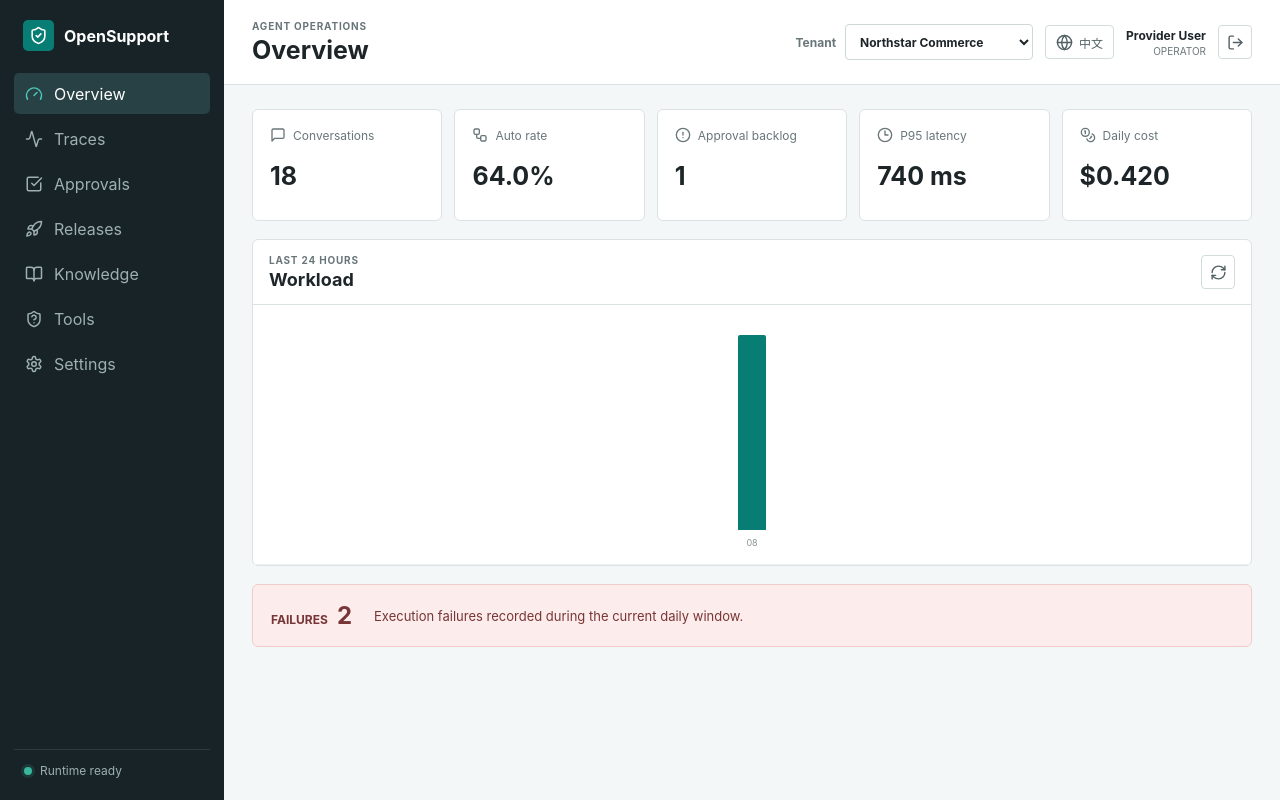
Scenario: operations dashboard › switches the interface language between English and Simplified Chinese
The image size is (1280, 800).
Expected: the text "18" is shown, [270,161,297,191]
Expected: the button "Overview" is shown, [14,73,210,114]
Click the button with aria-label "Language": (1080, 42) [1045,25,1114,59]
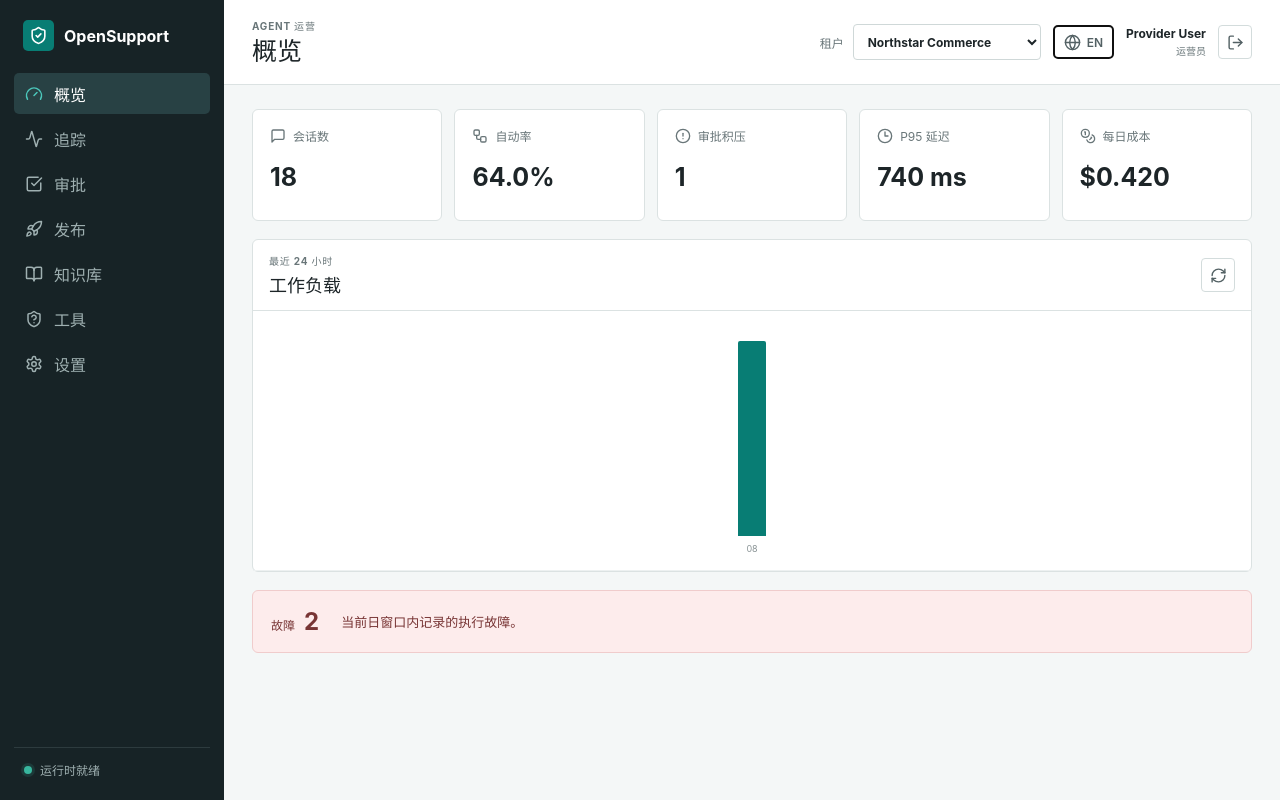
Now the button "概览" is shown, box [14,73,210,114]
Click the button with aria-label "语言": (1083, 42) [1053,25,1114,59]
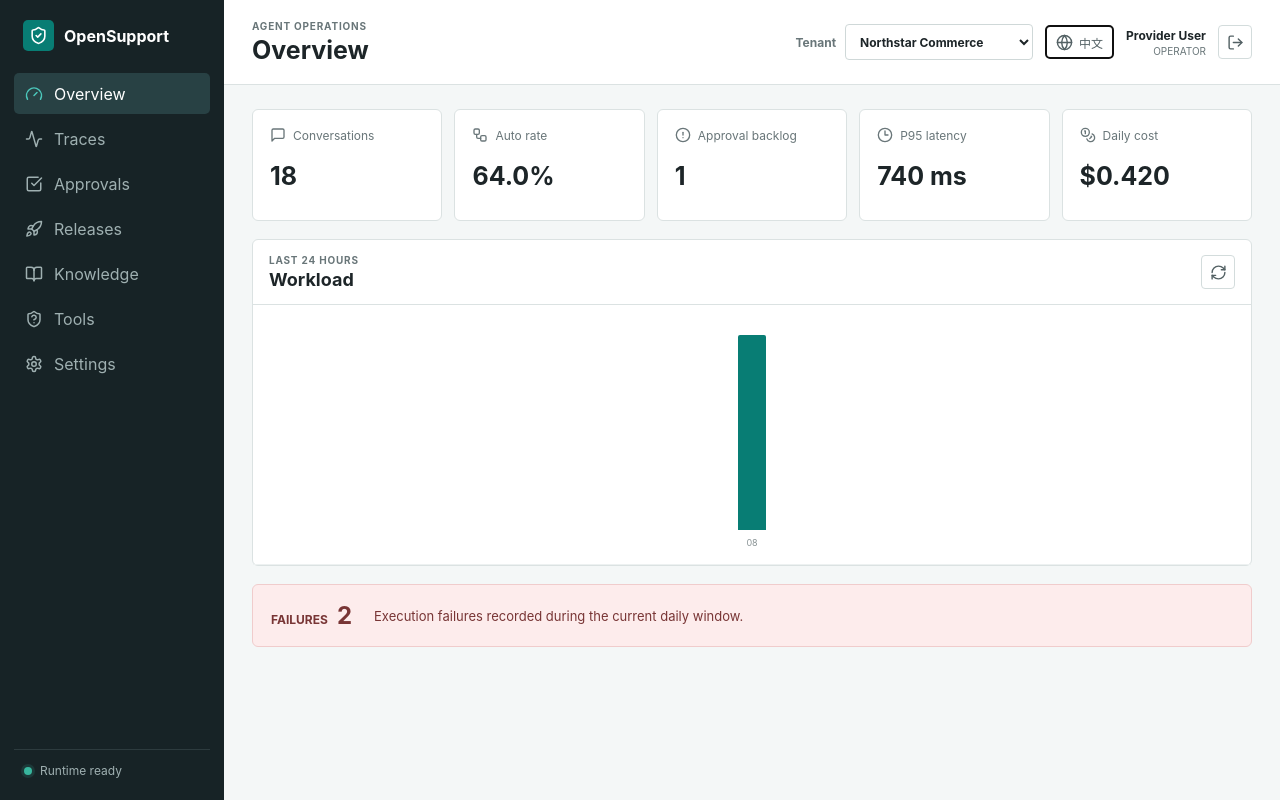
Now the button "Overview" is shown, box [14,73,210,114]
